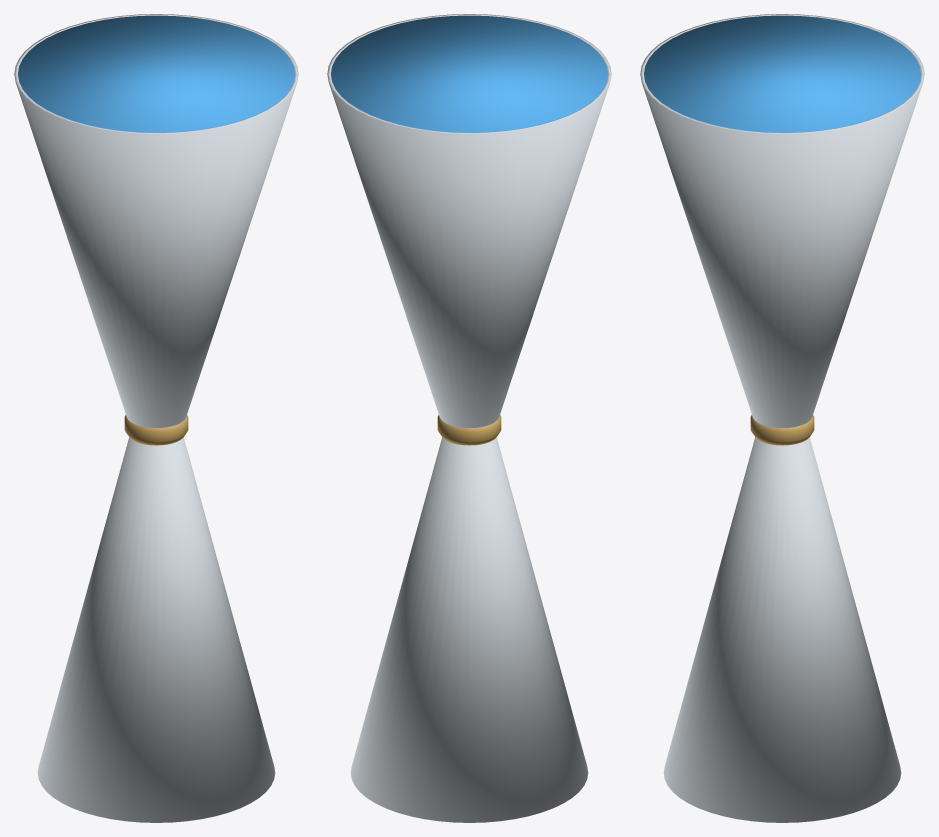
File: Jigger.fbx
The picture shows the model from 3 angles, left to right: view 1: azimuth 30°, elevation 25°; view 2: azimuth 150°, elevation 25°; view 3: azimuth 270°, elevation 25°; orthographic projection.
Visible parts, largest first — view 1: Jigger::CupB::Shell, Jigger::CupA::Shell, Jigger::CupA::InnerCavity, Jigger::GoldWaist; view 2: Jigger::CupB::Shell, Jigger::CupA::Shell, Jigger::CupA::InnerCavity, Jigger::GoldWaist; view 3: Jigger::CupB::Shell, Jigger::CupA::Shell, Jigger::CupA::InnerCavity, Jigger::GoldWaist.
Boxes of the visible parts, <box> form: Jigger::CupB::Shell: <box>37,437,275,822</box>; Jigger::CupA::Shell: <box>14,14,298,427</box>; Jigger::CupA::InnerCavity: <box>18,15,294,132</box>; Jigger::GoldWaist: <box>124,415,188,445</box>; Jigger::CupB::Shell: <box>350,437,588,822</box>; Jigger::CupA::Shell: <box>327,14,611,427</box>; Jigger::CupA::InnerCavity: <box>331,15,607,132</box>; Jigger::GoldWaist: <box>437,415,501,445</box>; Jigger::CupB::Shell: <box>663,437,901,822</box>; Jigger::CupA::Shell: <box>640,14,924,427</box>; Jigger::CupA::InnerCavity: <box>644,15,920,132</box>; Jigger::GoldWaist: <box>750,415,814,445</box>.
Size of the model in its own units: 5.16 by 14 by 5.16.
